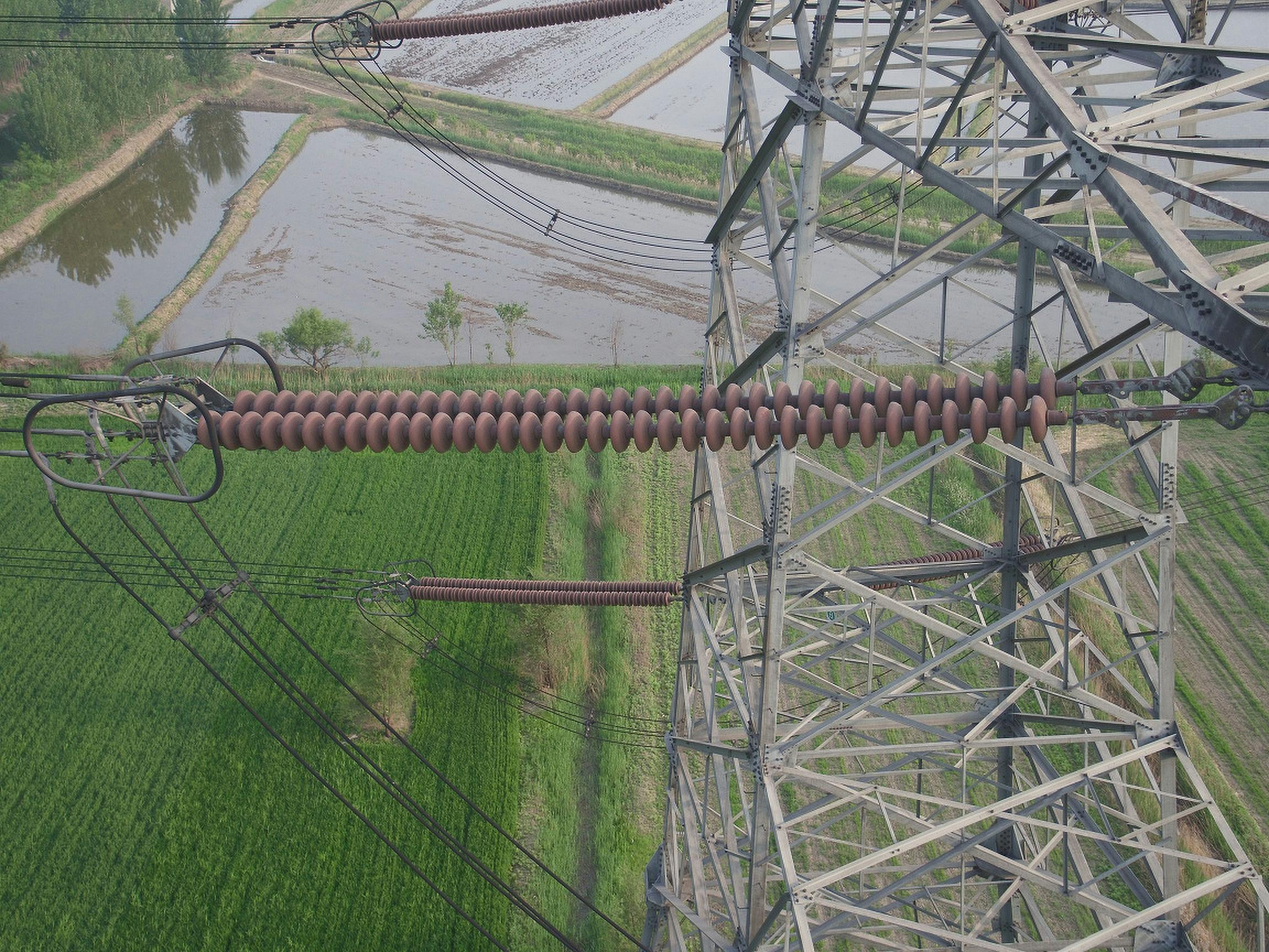insulator: (191, 363, 1065, 458), (368, 1, 673, 45), (848, 531, 1058, 592), (406, 574, 683, 608)
